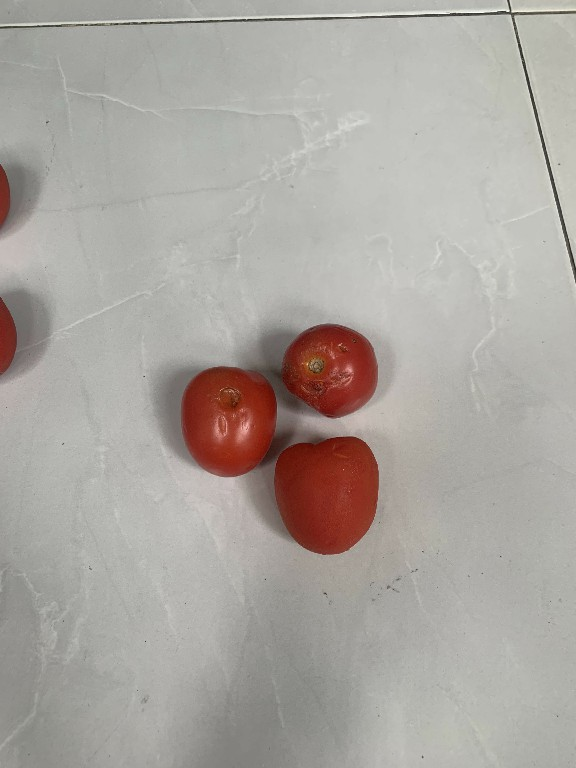NG: (172, 358, 279, 480), (274, 314, 386, 424)
OK: (267, 431, 389, 566)
